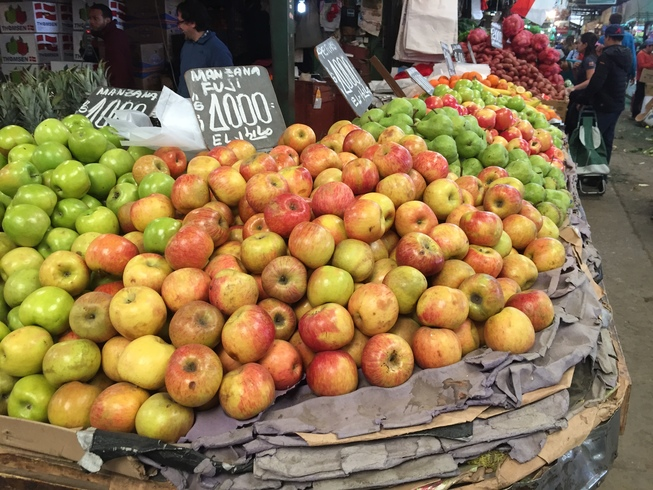precio: (186, 67, 291, 155), (314, 37, 379, 118), (75, 84, 159, 138), (437, 42, 455, 80), (488, 23, 505, 52), (452, 44, 470, 70)
